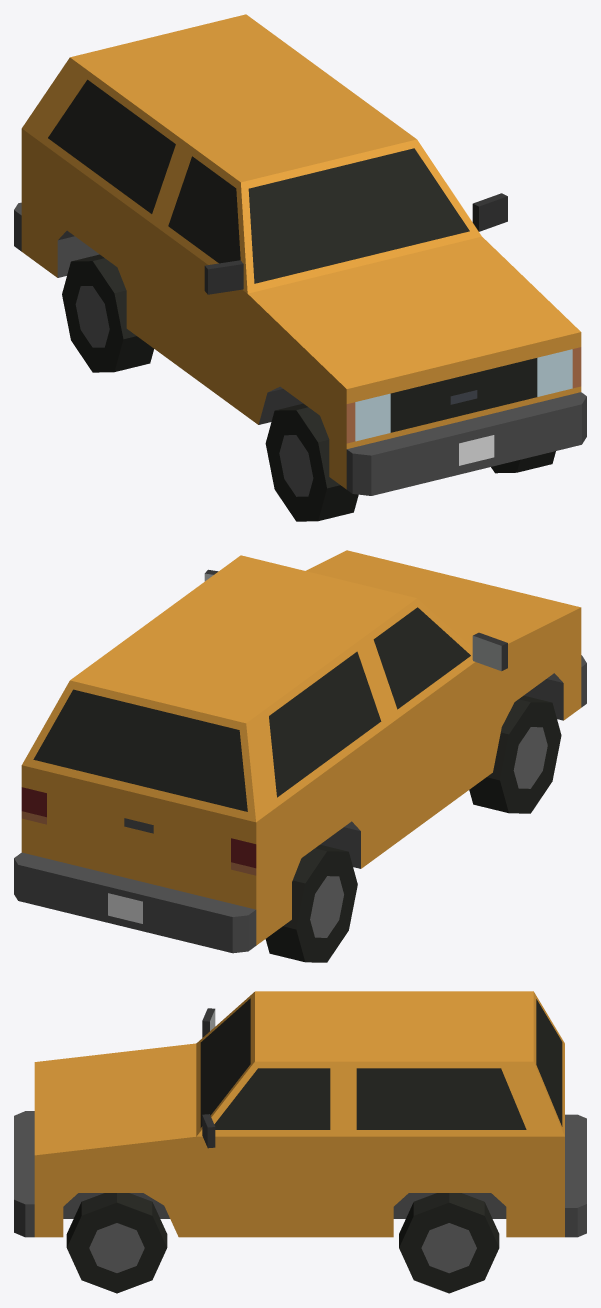
The model's file is Veh_SUV_02_Yellow.obj.
3 views of the same model, one above another, from view 1: azimuth 30°, elevation 25°; view 2: azimuth 150°, elevation 25°; view 3: azimuth 270°, elevation 25° (orthographic). The views are drawn at different scales.
Bounding box in the file's own units: 1.27 × 1.1 × 2.58.
